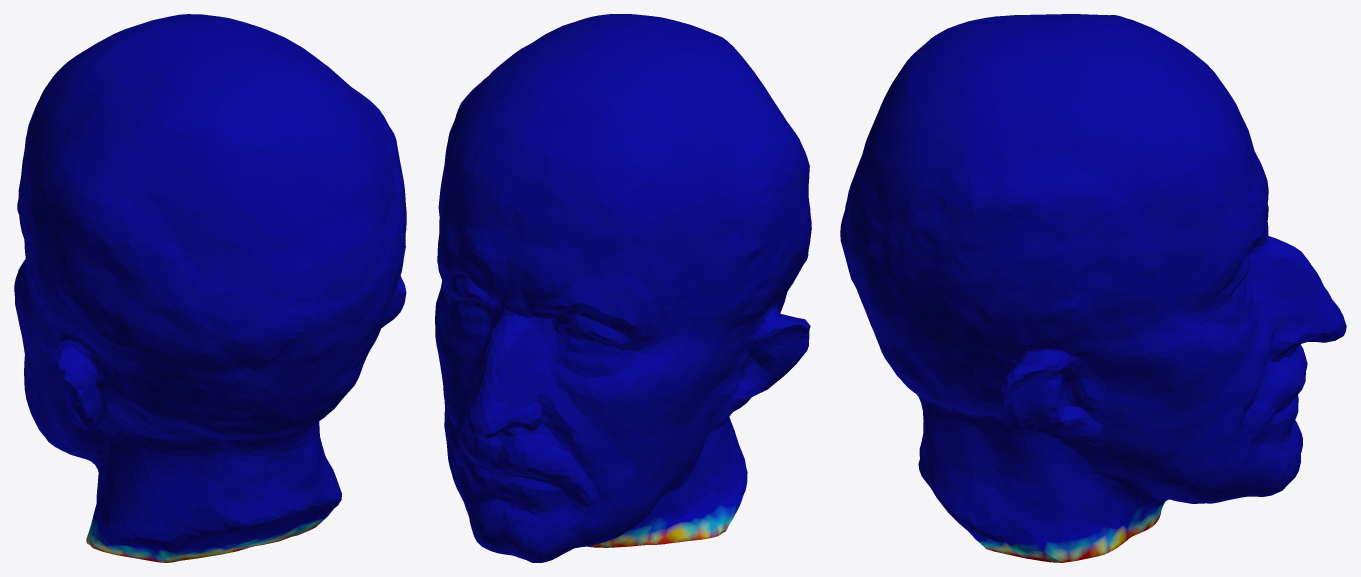
Rendered from max_boundary_0_fem.glb.
3 views of the same model, side by side, from view 1: azimuth 30°, elevation 25°; view 2: azimuth 150°, elevation 25°; view 3: azimuth 270°, elevation 25° (orthographic). The views are drawn at different scales.
Parts seen in each view (by area): view 1: max_boundary_2.obj; view 2: max_boundary_2.obj; view 3: max_boundary_2.obj.
Boxes of the visible parts, bbox=[...] form: max_boundary_2.obj: bbox=[14, 14, 406, 562]; max_boundary_2.obj: bbox=[435, 14, 811, 562]; max_boundary_2.obj: bbox=[840, 14, 1346, 562].
Bounding box in the file's own units: 1.28 × 1.7 × 1.62.
